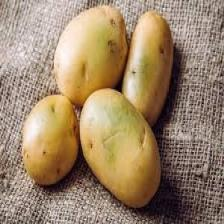Defected potato: (79, 85, 164, 210), (55, 3, 128, 106), (122, 8, 176, 134), (18, 90, 82, 190)
